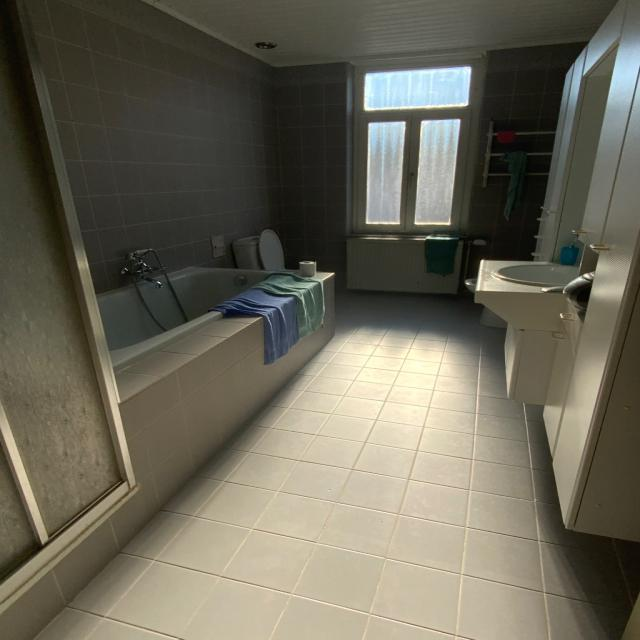bath: (94, 245, 317, 376)
douche: (0, 0, 138, 640)
toilet: (234, 229, 302, 273), (463, 275, 510, 328)
wastafel: (474, 289, 572, 406), (489, 257, 585, 287)
